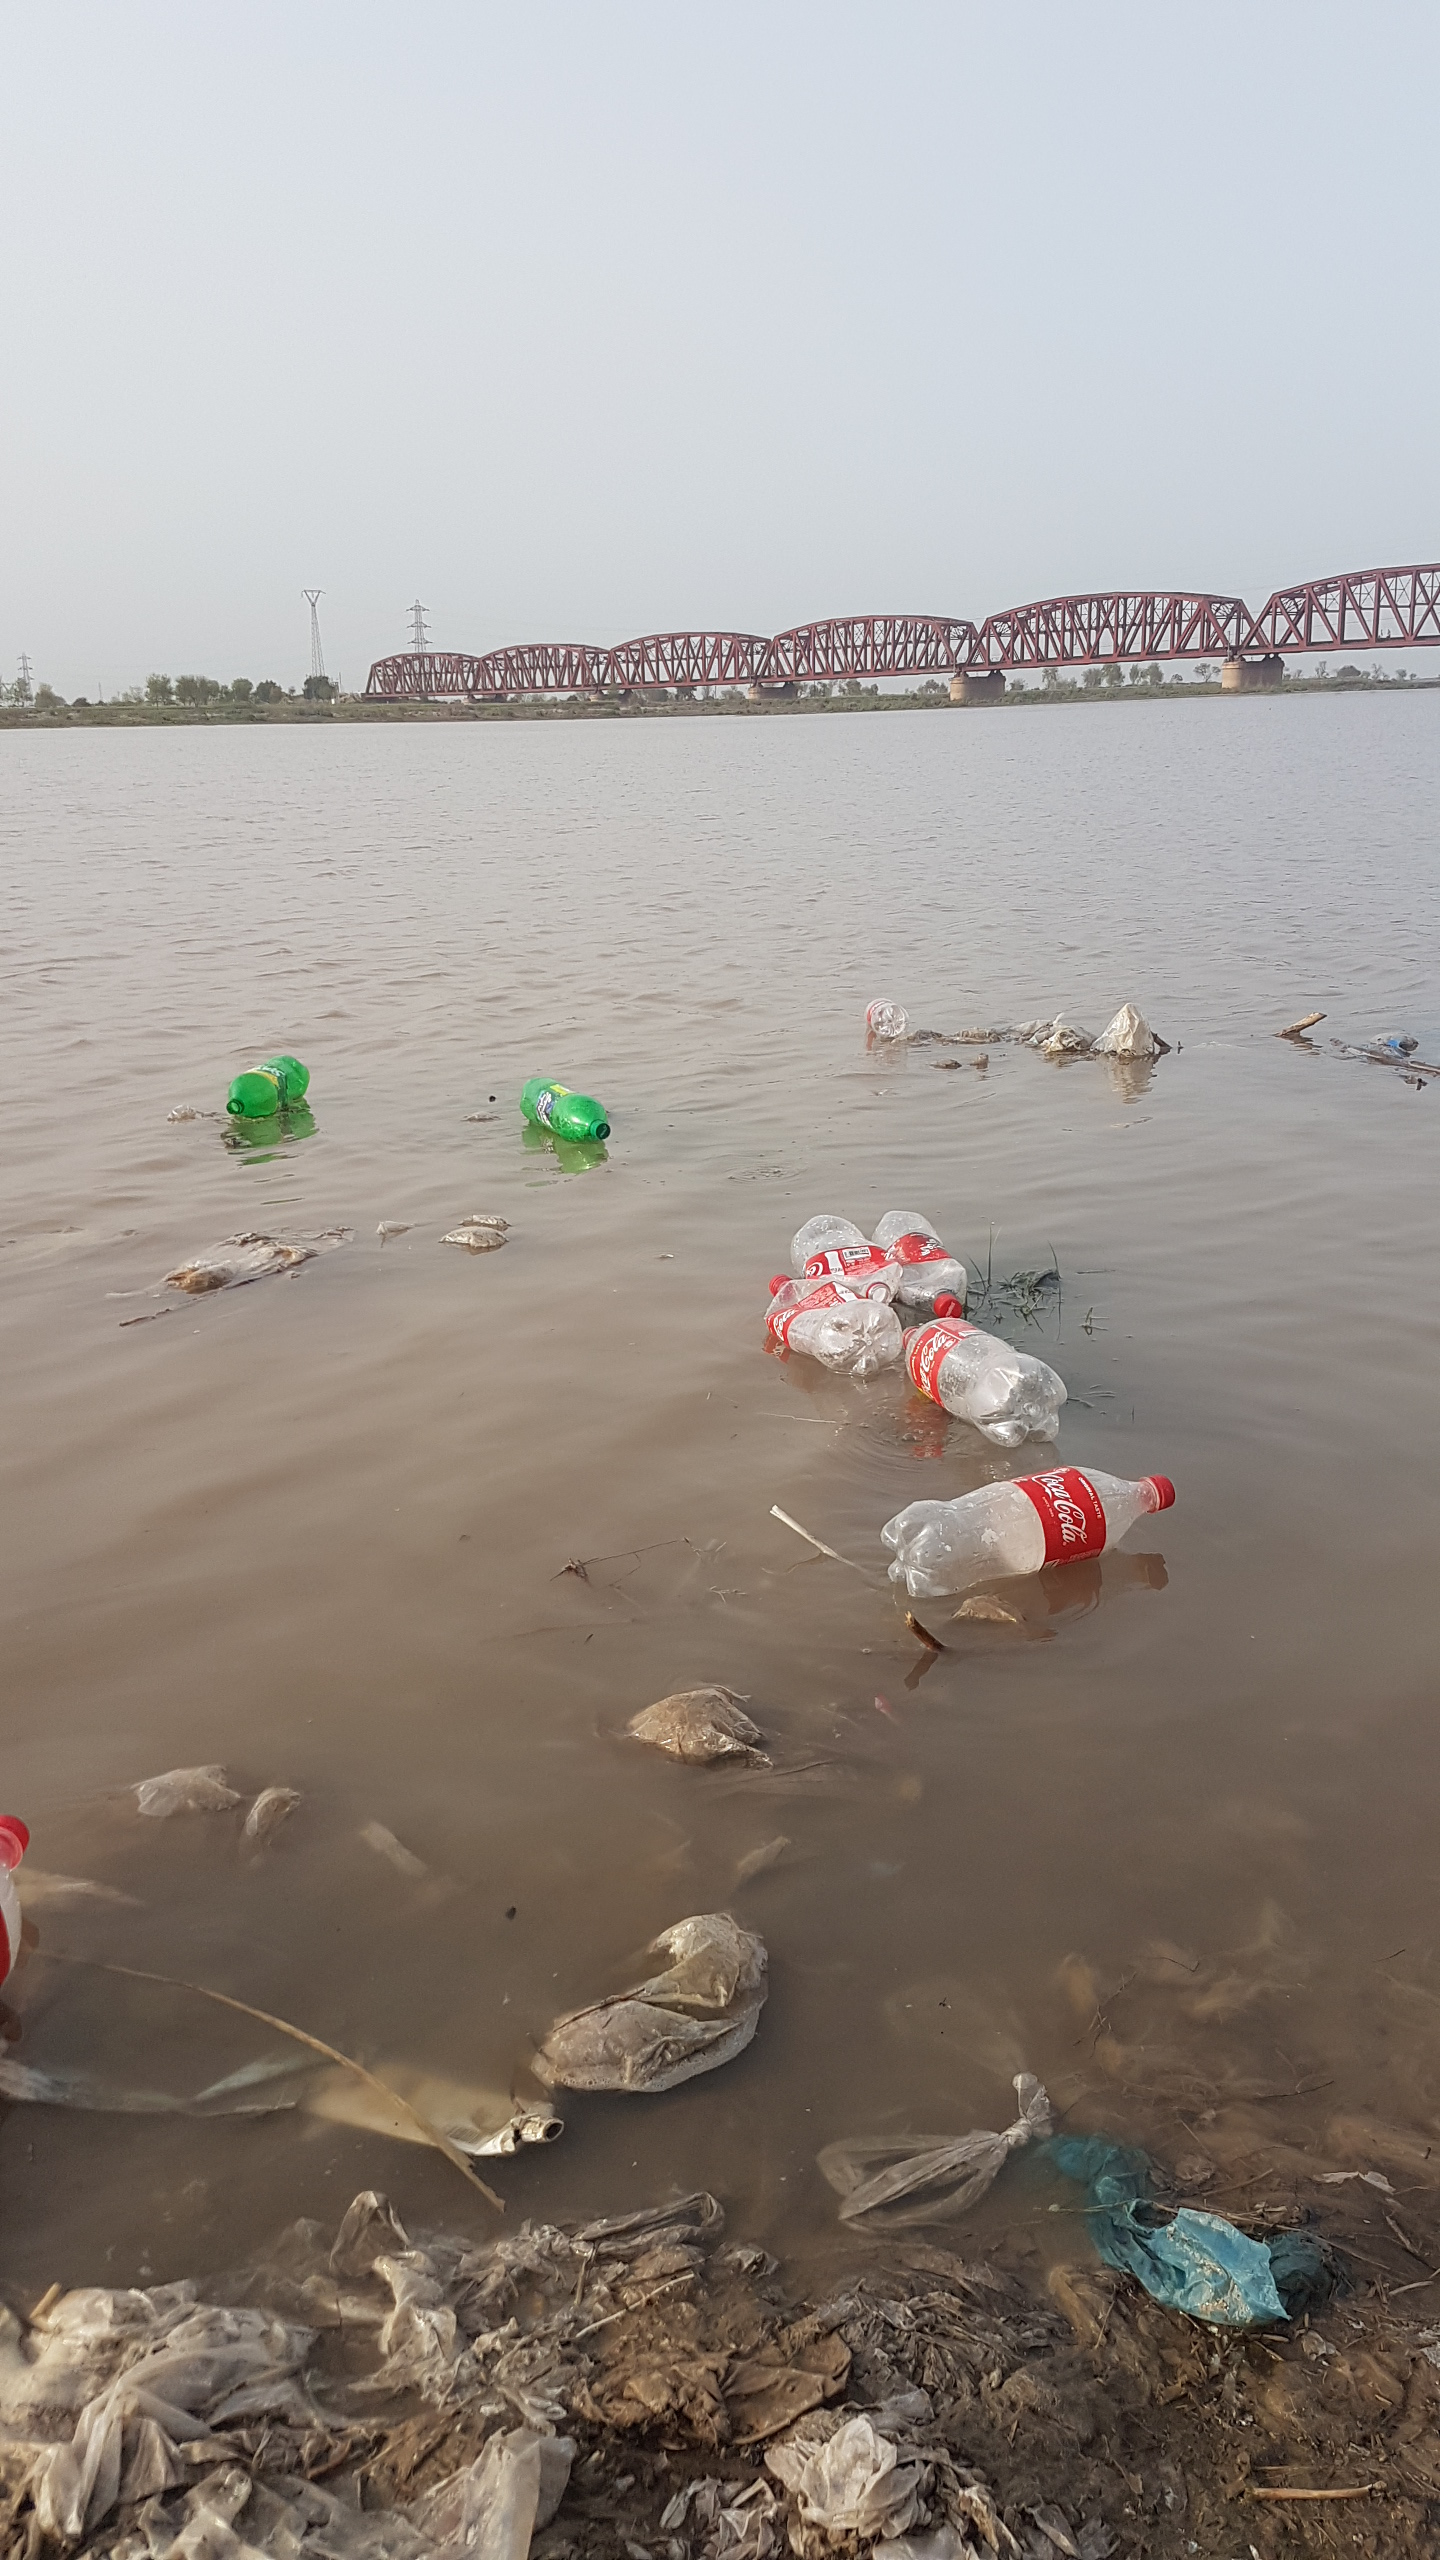Plastic Bottle: (879, 1465, 1176, 1596), (904, 1317, 1067, 1449), (765, 1275, 904, 1373), (870, 1208, 967, 1319), (789, 1215, 904, 1305), (520, 1078, 612, 1143), (225, 1055, 309, 1118), (2, 1815, 30, 1985), (865, 999, 907, 1039)
